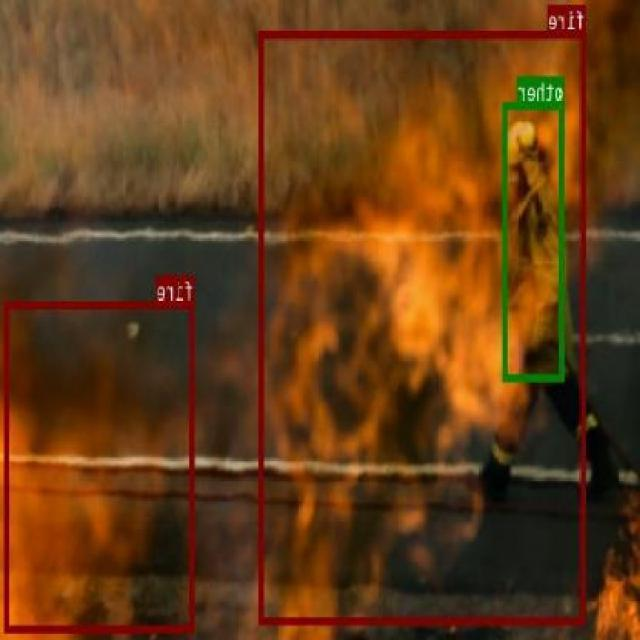Fire: (261, 29, 587, 623), (4, 300, 196, 632)
